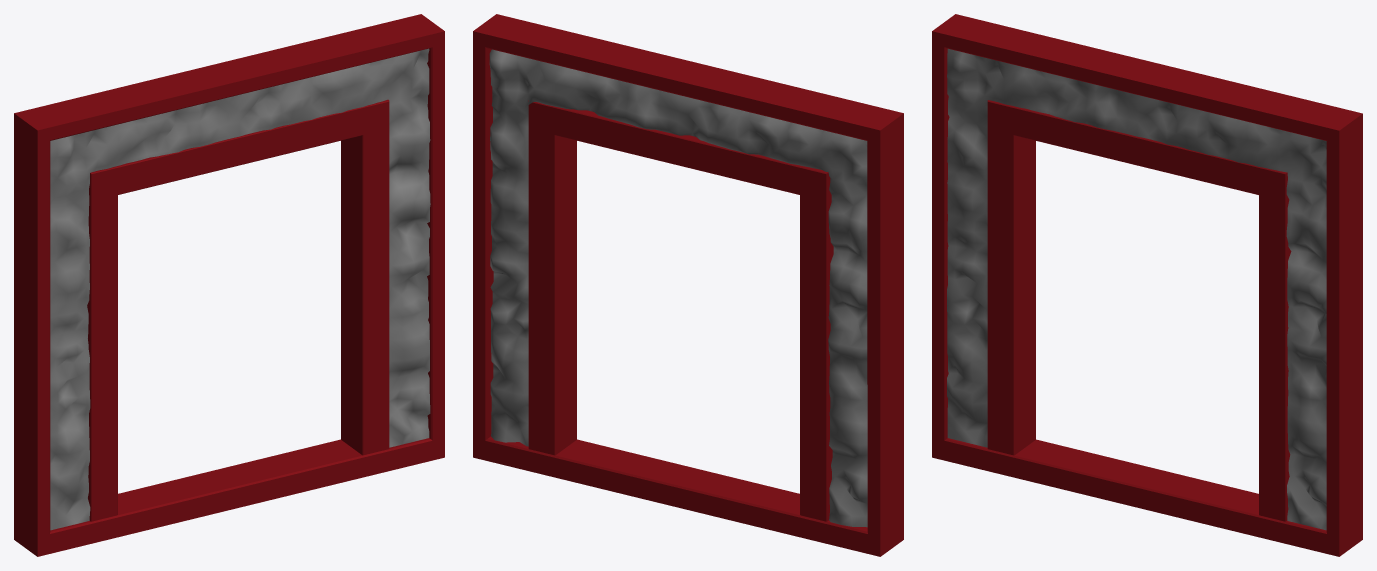
The picture shows the model from 3 angles, left to right: view 1: azimuth 30°, elevation 25°; view 2: azimuth 150°, elevation 25°; view 3: azimuth 330°, elevation 25°; orthographic projection.
Visible parts, largest first — view 1: SM_MH_01_Stone_Wall_Door_02_LOD0; view 2: SM_MH_01_Stone_Wall_Door_02_LOD0; view 3: SM_MH_01_Stone_Wall_Door_02_LOD0.
Part boxes in pixels (x1,y1,x2,y2): SM_MH_01_Stone_Wall_Door_02_LOD0: [14, 14, 444, 556]; SM_MH_01_Stone_Wall_Door_02_LOD0: [473, 14, 903, 556]; SM_MH_01_Stone_Wall_Door_02_LOD0: [932, 14, 1362, 556].
Size of what is drawn, in the model's own units: 300 by 300 by 37.46.
